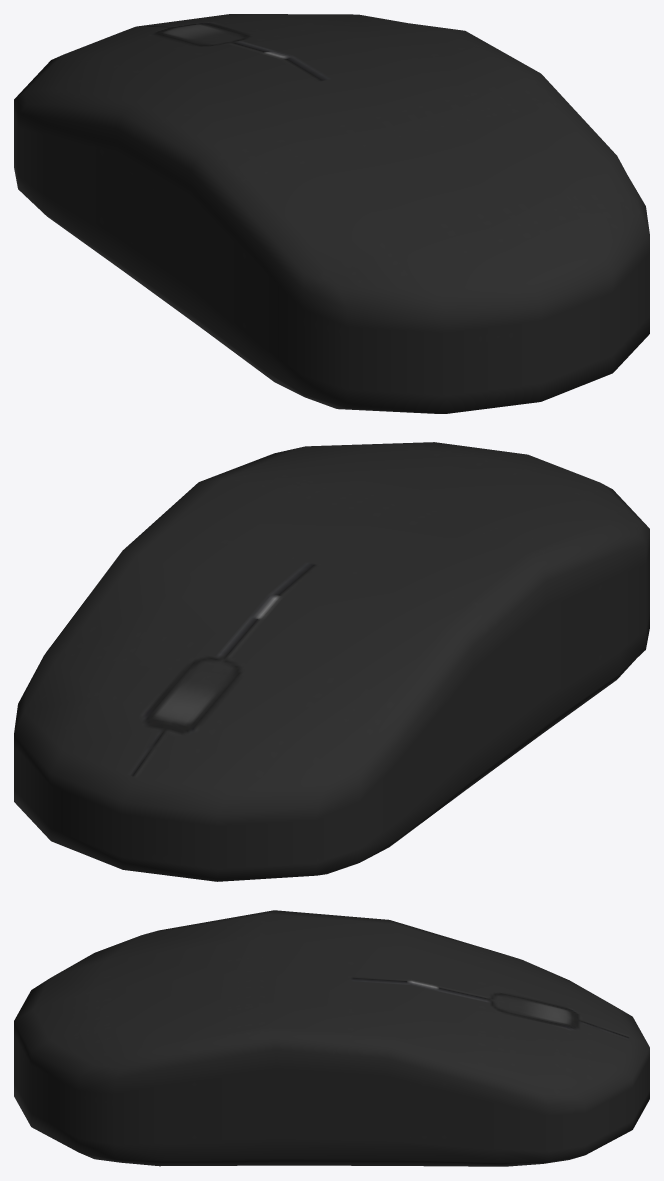
The model's file is mouse.FBX.
3 renders of one model, top to bottom at view 1: azimuth 30°, elevation 25°; view 2: azimuth 150°, elevation 25°; view 3: azimuth 270°, elevation 25°, orthographic. The views are drawn at different scales.
Parts seen in each view (by area): view 1: mouse; view 2: mouse; view 3: mouse.
Boxes of the visible parts, left/top/right/bottom form: mouse: left=14, top=14, right=649, bottom=413; mouse: left=14, top=442, right=649, bottom=881; mouse: left=14, top=910, right=649, bottom=1166.
Bounding box in the file's own units: 2.1 × 4.27 × 1.
